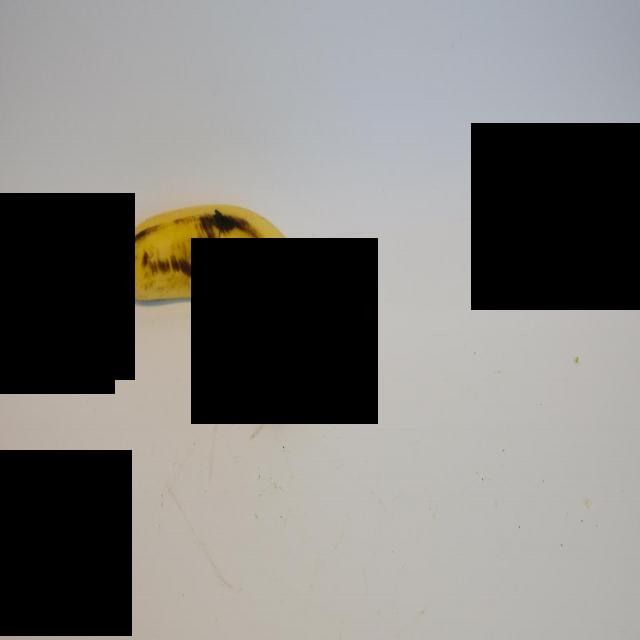banana: (102, 195, 319, 412)
